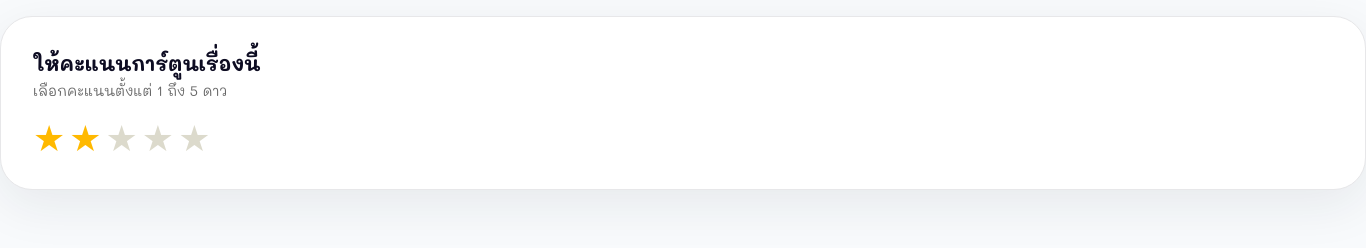
Test case: rating loads, previews on hover, submits and refreshes aggregate ratings
This screenshot has width=1366, height=248.
Hover over the 5th button "★": (194, 137) [178,117,210,157]
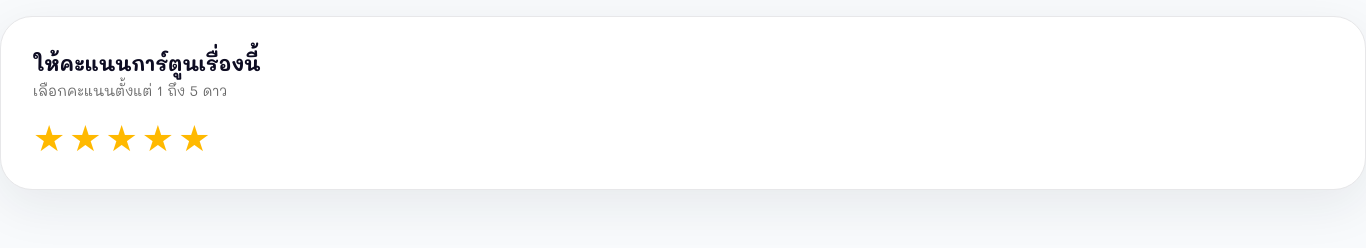
Move the pointer off the 5th button "★", box [178,117,210,157]
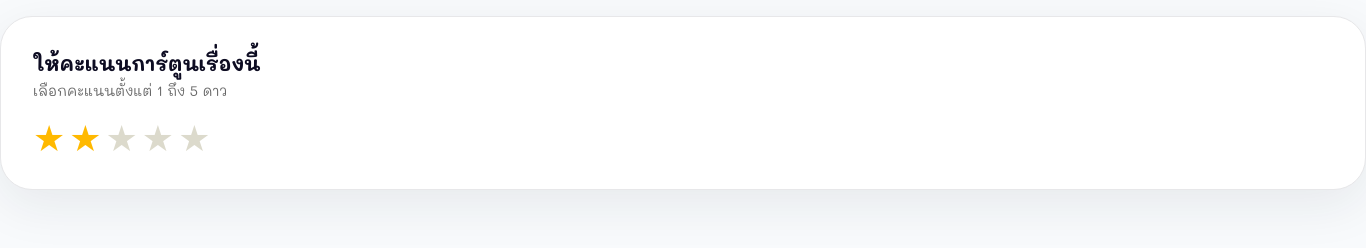
Click the 4th button "★": click(158, 137) [142,117,174,157]
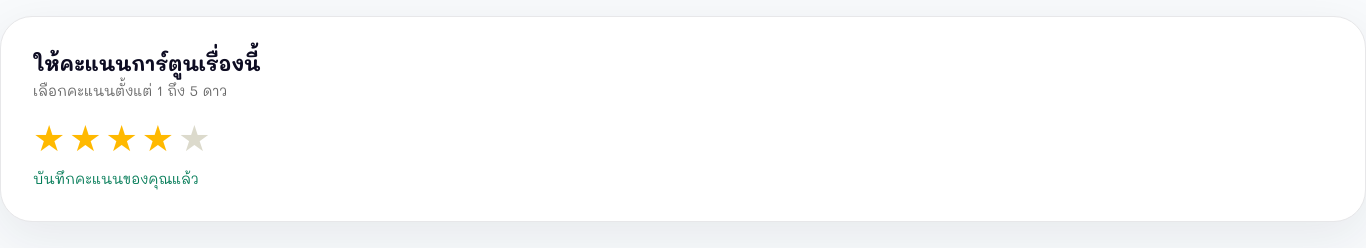
Check: the text "บันทึกคะแนนของคุณแล้ว" is shown, box [33,169,199,188]
